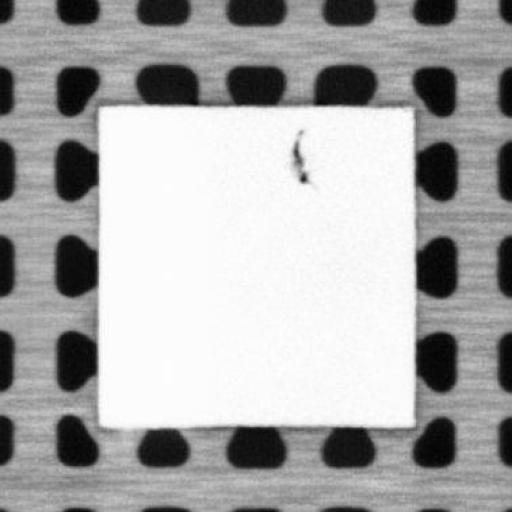DIE_INK: (288, 127, 309, 185)
